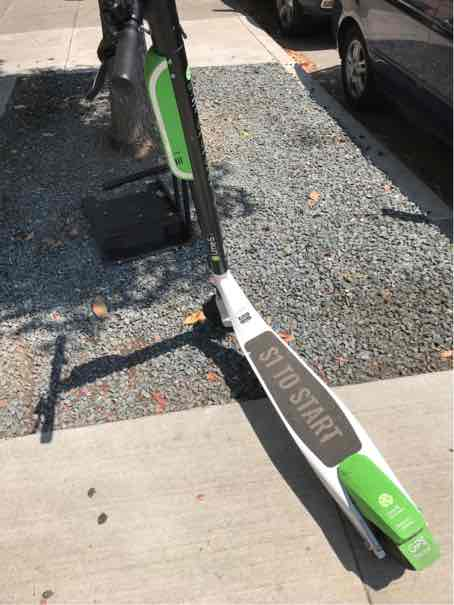scooter: (62, 1, 444, 582)
